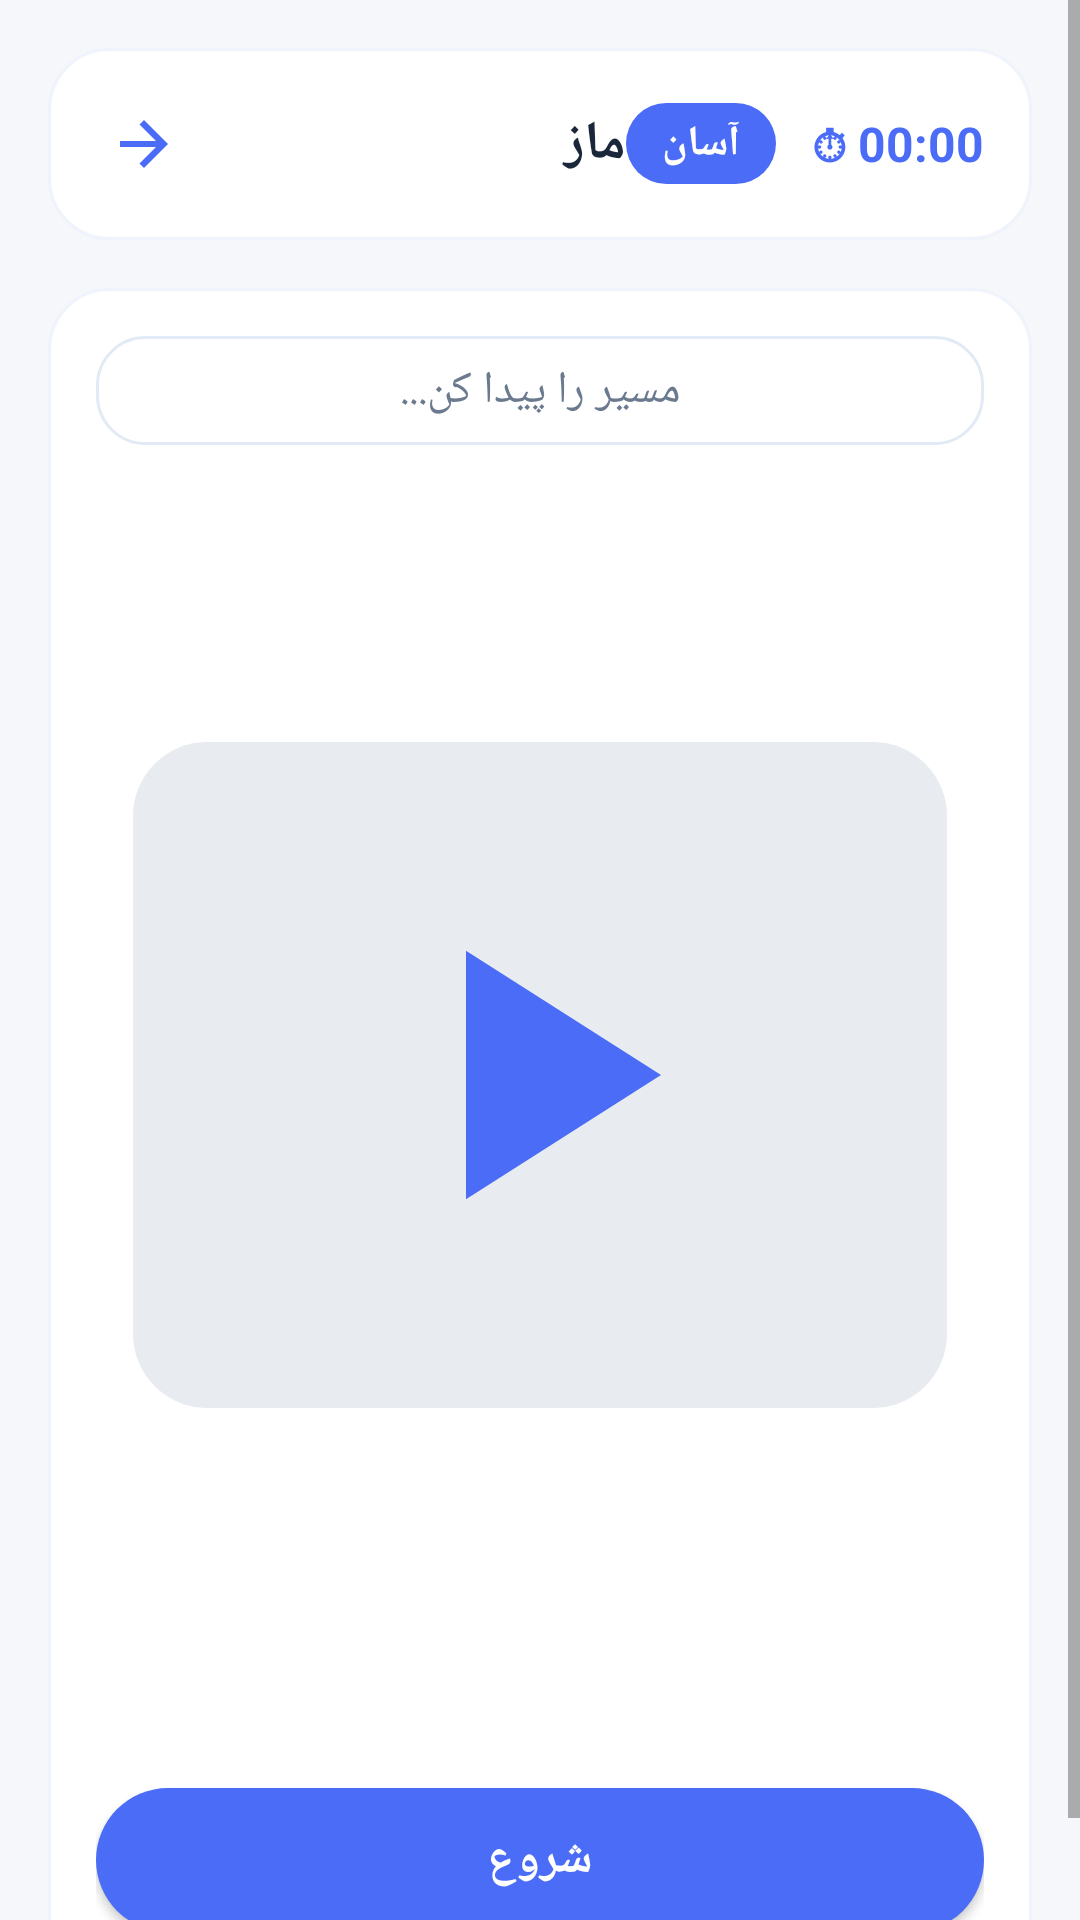

Icon bounding boxes for this 1080 × 1920 phone screenshot, format (x1, y1, x2, y2):
arrow right: (120, 120, 168, 168)
